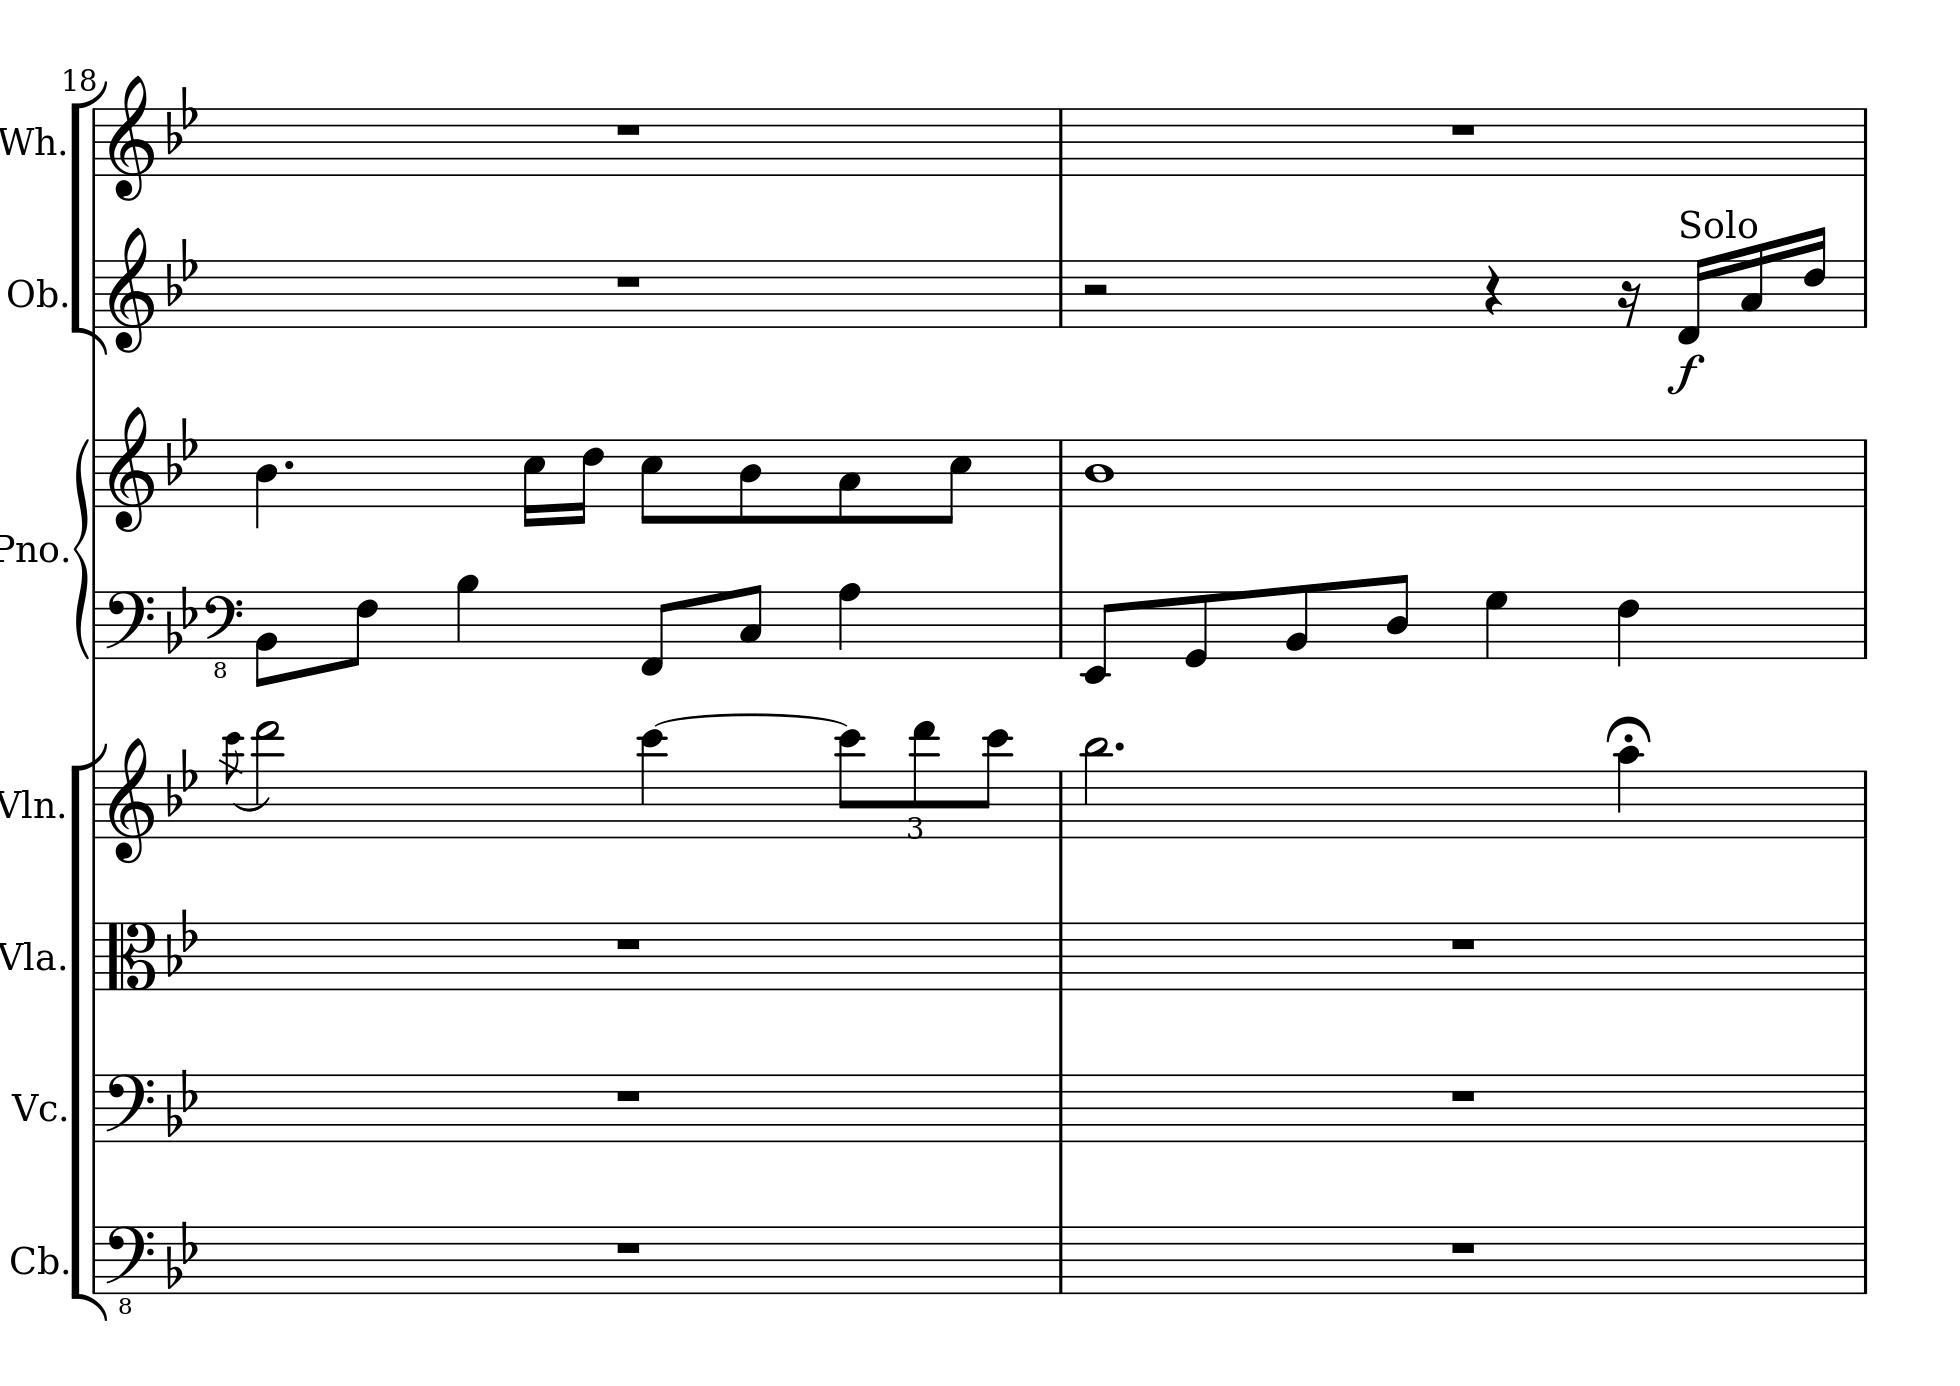1: (61, 66, 75, 93)
16_-1: (1677, 253, 1710, 345)
16_3: (1740, 240, 1767, 328)
16_5: (522, 436, 546, 528)
16_6: (570, 436, 604, 525), (1803, 223, 1830, 330)
1_4: (1083, 436, 1116, 508)
2_11: (1081, 736, 1110, 840)
2_13: (250, 718, 283, 840)
3: (906, 814, 922, 838)
4_10: (1614, 744, 1644, 841)
4_12: (637, 727, 667, 840)
4_4: (253, 436, 279, 529)
4_6: (1615, 588, 1641, 669)
4_7: (1483, 589, 1510, 660)
4_8: (837, 580, 862, 660)
4_9: (454, 571, 480, 661)
8: (78, 64, 96, 91)
8_-1: (639, 589, 672, 676)
8_-2: (1081, 586, 1116, 684)
8_0: (1183, 589, 1209, 670)
8_12: (976, 726, 1011, 840), (835, 726, 865, 838)
8_13: (907, 720, 937, 843)
8_2: (253, 589, 279, 688), (1284, 583, 1309, 661)
8_3: (835, 436, 862, 525), (738, 583, 763, 661)
8_4: (736, 436, 763, 526), (1386, 571, 1410, 661)
8_5: (940, 436, 973, 526), (639, 436, 664, 526)
8_6: (343, 589, 379, 669)
Acciaccature: (220, 730, 247, 838)
B_F: (165, 82, 198, 154), (165, 412, 198, 484), (166, 745, 198, 816), (166, 234, 196, 306), (166, 1066, 196, 1137), (166, 583, 196, 652), (166, 906, 196, 975), (166, 1219, 196, 1288)
Brace: (72, 430, 91, 661)
Bracke: (69, 741, 102, 1315), (69, 85, 105, 354)
Cbs: (7, 1242, 57, 1279)
Cclef: (105, 919, 157, 991)
Fclef: (103, 1069, 154, 1141), (103, 589, 154, 660)
Fermata_above: (1608, 714, 1653, 745)
Gclef: (106, 73, 154, 202), (106, 225, 154, 354), (106, 403, 154, 532), (106, 736, 154, 865)
Lower_Fclef: (105, 1222, 154, 1314), (202, 589, 243, 679)
Ob: (4, 271, 61, 313)
Pno: (1, 531, 60, 567)
Rests1: (612, 1084, 643, 1105), (1447, 1086, 1479, 1105), (612, 1237, 643, 1257), (1447, 1237, 1479, 1257), (613, 118, 643, 138), (1447, 120, 1479, 138), (613, 271, 643, 289), (613, 934, 643, 952), (1449, 934, 1479, 952)
Rests16: (1617, 279, 1642, 328)
Rests2: (1080, 280, 1111, 298)
Rests4: (1482, 262, 1503, 318)
Single_barline: (1855, 259, 1873, 327), (1855, 922, 1873, 990), (1053, 259, 1071, 325), (1053, 439, 1071, 505), (1053, 1074, 1071, 1140), (1857, 108, 1873, 175), (1857, 1074, 1873, 1141), (1053, 108, 1069, 174), (1857, 439, 1873, 505), (1053, 591, 1069, 657), (1053, 769, 1069, 835), (1053, 922, 1069, 988), (85, 922, 102, 988), (1857, 1225, 1873, 1291), (1857, 589, 1872, 658), (1857, 769, 1872, 838), (1053, 1225, 1068, 1291), (87, 1227, 102, 1291), (87, 259, 100, 328), (88, 438, 102, 505), (88, 771, 102, 837), (87, 109, 100, 174), (87, 1075, 100, 1140), (88, 592, 100, 655)
Slur: (652, 712, 843, 727)
Solo: (1678, 208, 1759, 238)
Vc: (7, 1087, 57, 1128)
Vla: (1, 934, 58, 981)
Vln: (1, 781, 58, 826)
dot: (1113, 736, 1128, 754), (280, 457, 295, 471)
f: (1666, 352, 1707, 394)
